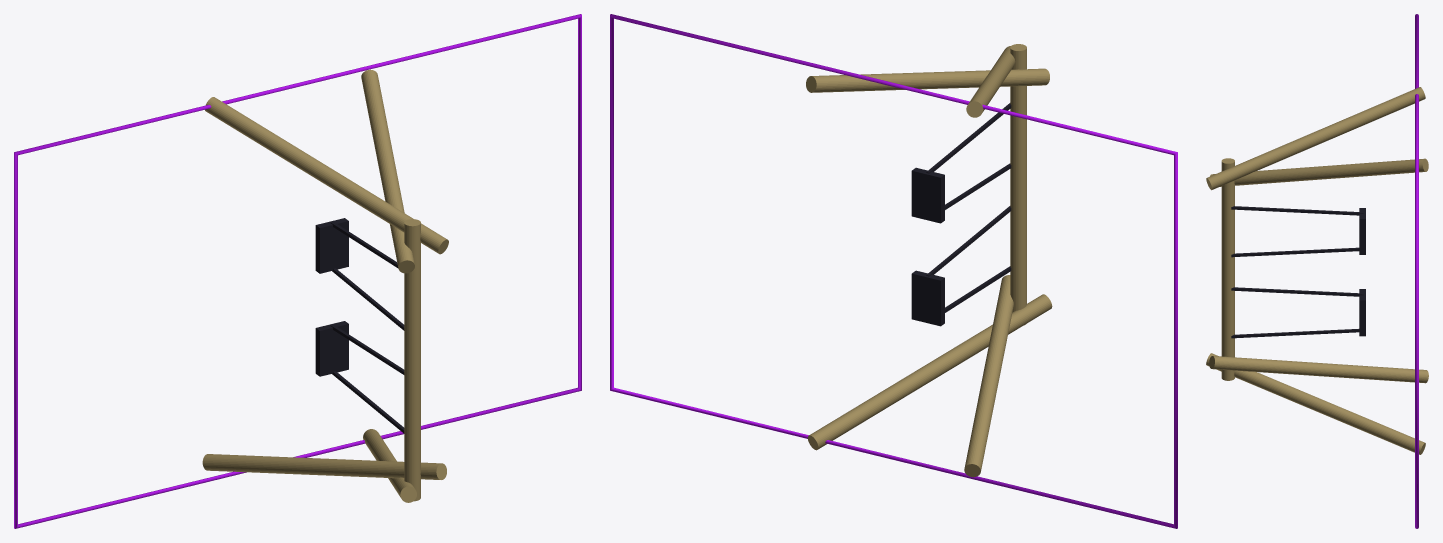
The model's file is adanat-18201.glb.
3 views of the same model, side by side, from view 1: azimuth 30°, elevation 25°; view 2: azimuth 150°, elevation 25°; view 3: azimuth 270°, elevation 25° (orthographic). The views are drawn at different scales.
Visible parts, largest first — view 1: _outline.016, Cylinder.156, Cylinder.155, Cylinder.158, Cylinder.157, Cube.102, Cube.105, Cylinder.159; view 2: _outline.016, Cylinder.159, Cylinder.155, Cylinder.157, Cylinder.158, Cube.102, Cube.105, Cylinder.156; view 3: Cylinder.156, Cylinder.158, Cylinder.159, Cylinder.155, Cylinder.157, _outline.016, Cube.104, Cube.107, Cube.106, Cube.103, Cube.102, Cube.105.
Part boxes in pixels (<box>): _outline.016: <box>14,14,581,528</box>; Cylinder.156: <box>205,97,448,254</box>; Cylinder.155: <box>404,219,420,501</box>; Cylinder.158: <box>202,454,446,479</box>; Cylinder.157: <box>361,69,414,273</box>; Cube.102: <box>315,321,348,376</box>; Cube.105: <box>315,218,348,273</box>; Cylinder.159: <box>363,429,416,502</box>; _outline.016: <box>610,14,1177,528</box>; Cylinder.159: <box>807,294,1052,450</box>; Cylinder.155: <box>1010,44,1026,325</box>; Cylinder.157: <box>806,68,1049,92</box>; Cylinder.158: <box>964,275,1013,477</box>; Cube.102: <box>911,270,944,326</box>; Cube.105: <box>911,167,944,223</box>; Cylinder.156: <box>966,46,1015,117</box>; Cylinder.156: <box>1206,87,1425,190</box>; Cylinder.158: <box>1209,356,1428,383</box>; Cylinder.159: <box>1206,353,1425,454</box>; Cylinder.155: <box>1221,158,1234,380</box>; Cylinder.157: <box>1210,158,1428,186</box>; _outline.016: <box>1415,14,1418,528</box>; Cube.104: <box>1231,287,1363,296</box>; Cube.107: <box>1231,206,1363,215</box>; Cube.106: <box>1231,247,1359,257</box>; Cube.103: <box>1231,329,1359,338</box>; Cube.102: <box>1359,289,1365,336</box>; Cube.105: <box>1359,208,1365,254</box>.
Size of the model in its own units: 7.79 by 5.08 by 3.36.
